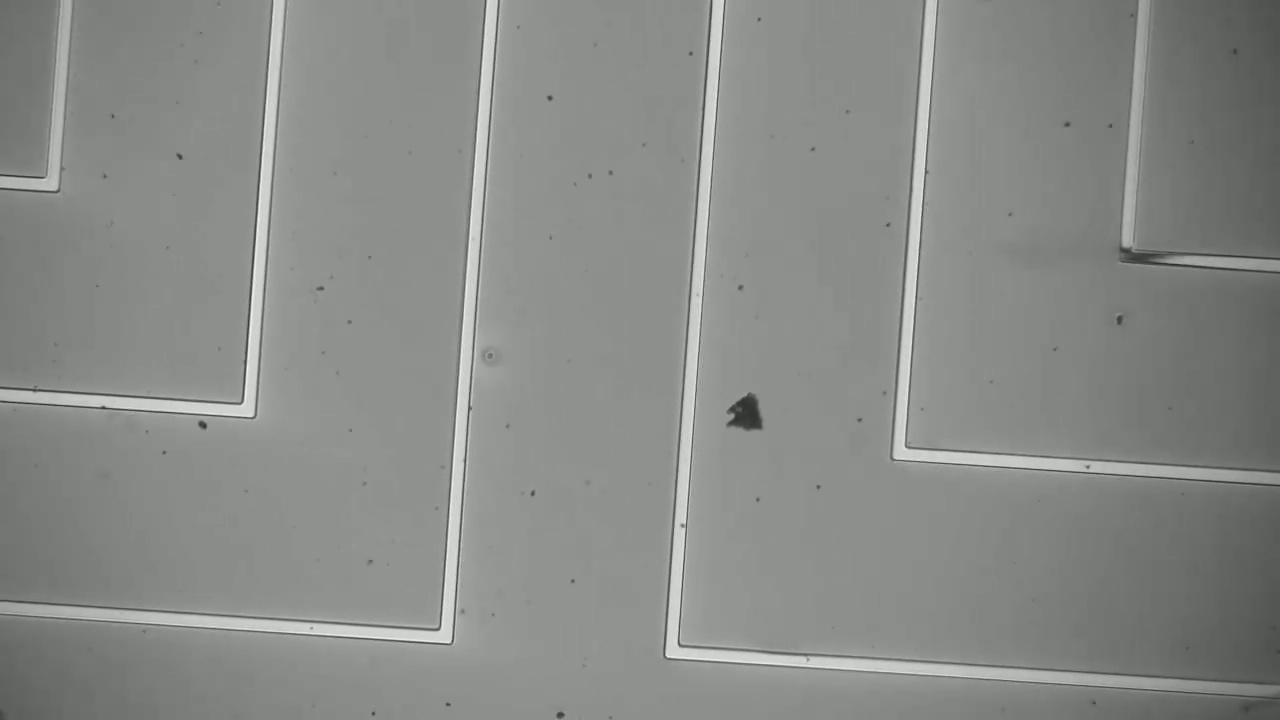gray_line: (1108, 233, 1187, 282)
